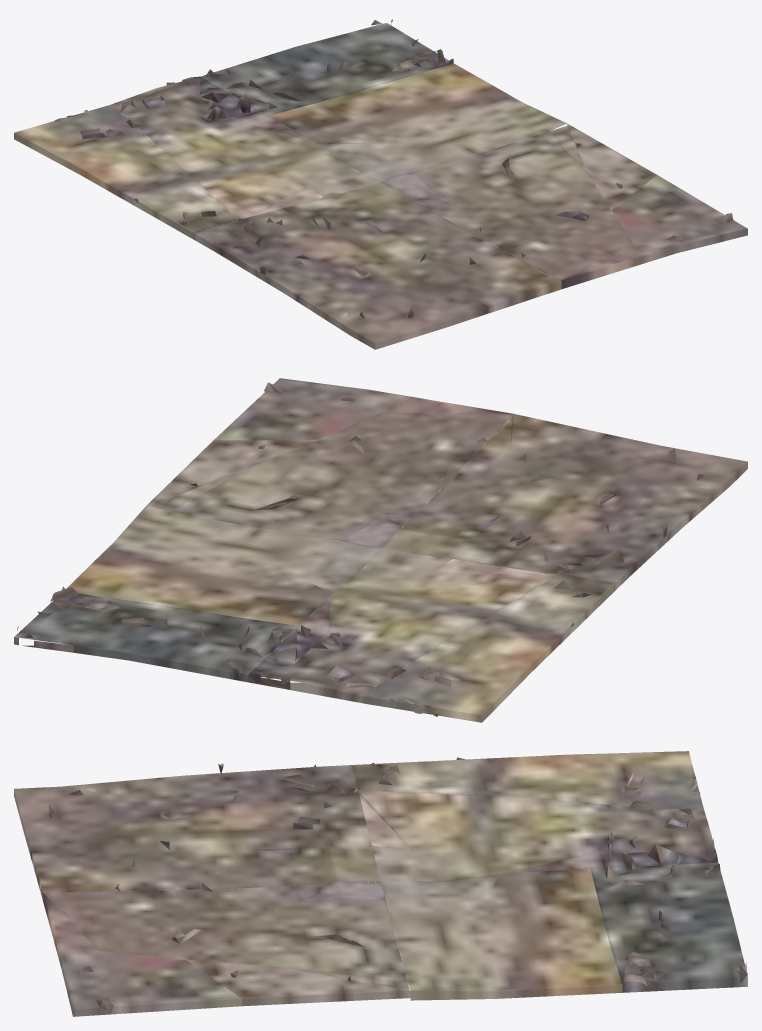
3 renders of one model, top to bottom at view 1: azimuth 30°, elevation 25°; view 2: azimuth 150°, elevation 25°; view 3: azimuth 270°, elevation 25°, orthographic. The views are drawn at different scales.
Parts seen in each view (by area): view 1: Mesh_0; view 2: Mesh_0; view 3: Mesh_0.
Boxes of the visible parts, x1=… form: Mesh_0: x1=14, y1=19, x2=747, y2=349; Mesh_0: x1=14, y1=378, x2=747, y2=722; Mesh_0: x1=14, y1=751, x2=747, y2=1016.
Size of the model in its own units: 2131 by 109 by 2637.
Materials: 1 (1 with a texture image).
